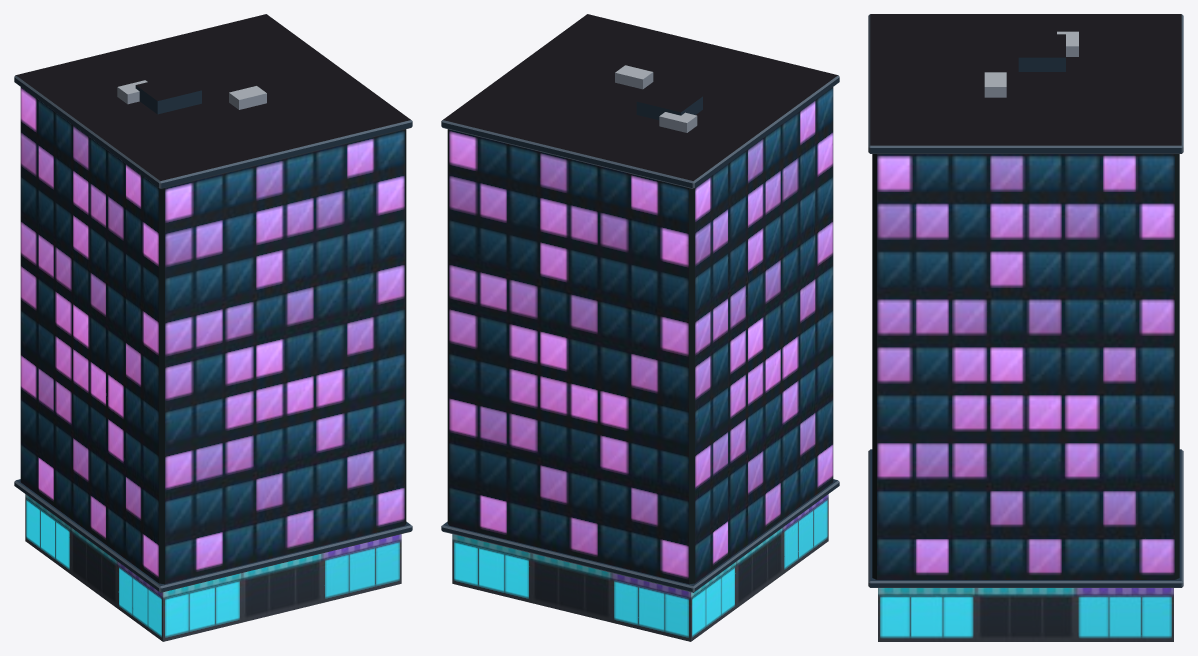
Rendered from building-20x20x36.glb.
3 views of the same model, side by side, from view 1: azimuth 30°, elevation 25°; view 2: azimuth 150°, elevation 25°; view 3: azimuth 270°, elevation 25° (orthographic). The views are drawn at different scales.
Visible parts, largest first — view 1: building-20x20x36; view 2: building-20x20x36; view 3: building-20x20x36.
Boxes of the visible parts, x1,y1,x2,y2 form: building-20x20x36: (14, 14, 412, 641); building-20x20x36: (441, 14, 839, 641); building-20x20x36: (868, 14, 1183, 641).
Size of the model in its own units: 20 by 36 by 20.
1 material, 1 textured.
